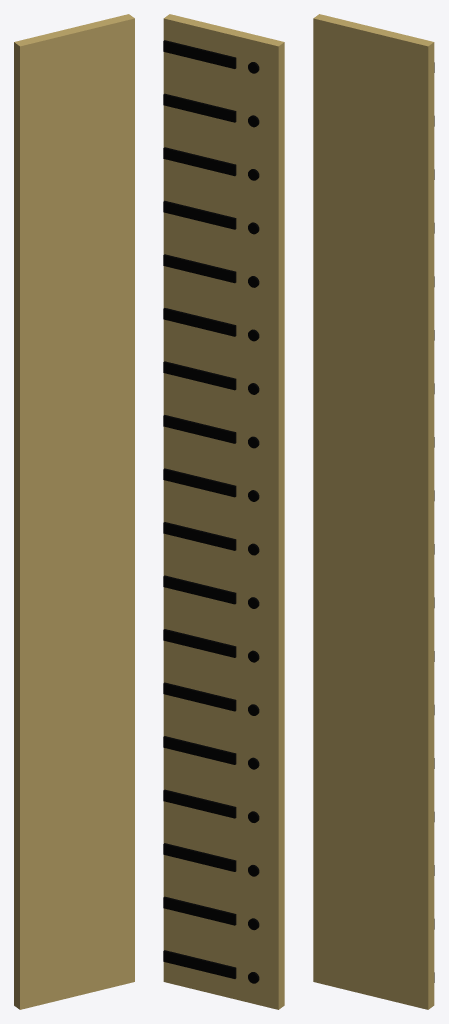
Rendered from rule.fbx.
3 views of the same model, side by side, from view 1: azimuth 30°, elevation 25°; view 2: azimuth 150°, elevation 25°; view 3: azimuth 330°, elevation 25° (orthographic).
Parts seen in each view (by area): view 1: pCube1; view 2: pCube1, pCube2 (×18); view 3: pCube1.
Part boxes in pixels (bbox=[...]): pCube1: bbox=[14, 14, 134, 1009]; pCube1: bbox=[163, 14, 284, 1009]; pCube2 (×18): bbox=[163, 40, 236, 978]; pCube1: bbox=[313, 14, 434, 1009].
Size of the model in its own units: 2.25 by 18 by 0.2499.
